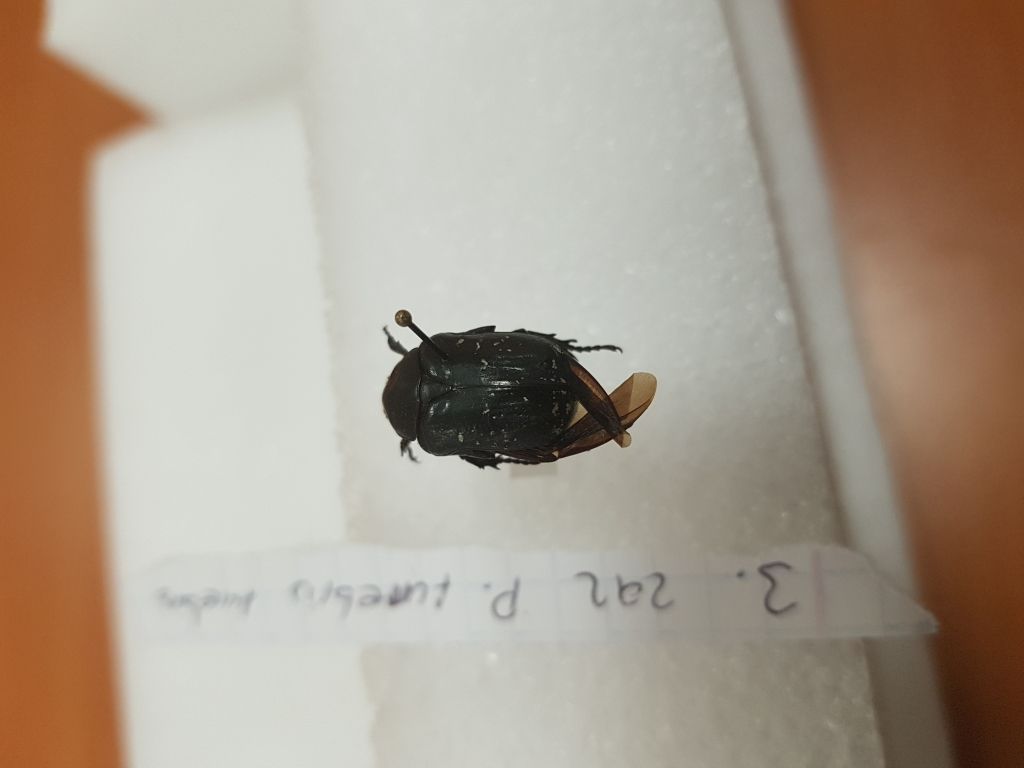Protaetia_funebris: (367, 323, 625, 471)
